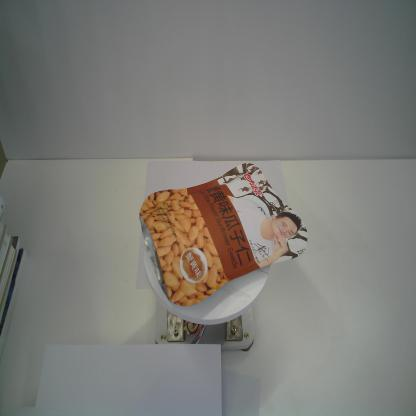Dried Fruit: (139, 162, 309, 307)
